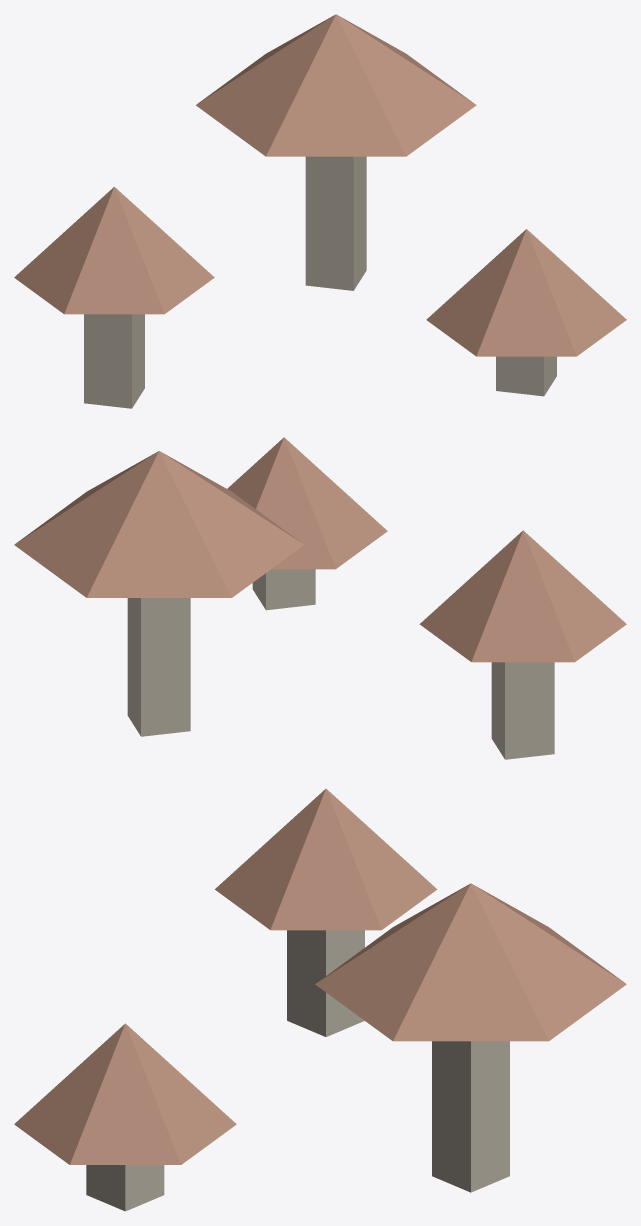
Rendered from mushrooms.glb.
3 renders of one model, top to bottom at view 1: azimuth 30°, elevation 25°; view 2: azimuth 150°, elevation 25°; view 3: azimuth 270°, elevation 25°, orthographic. The views are drawn at different scales.
Visible parts, largest first — view 1: mushrooms; view 2: mushrooms; view 3: mushrooms.
Part boxes in pixels (x1,y1,x2,y2): mushrooms: (14, 14, 626, 408); mushrooms: (14, 437, 626, 759); mushrooms: (14, 789, 626, 1211).
Bounding box in the file's own units: 0.1811 × 0.0967 × 0.1833.
